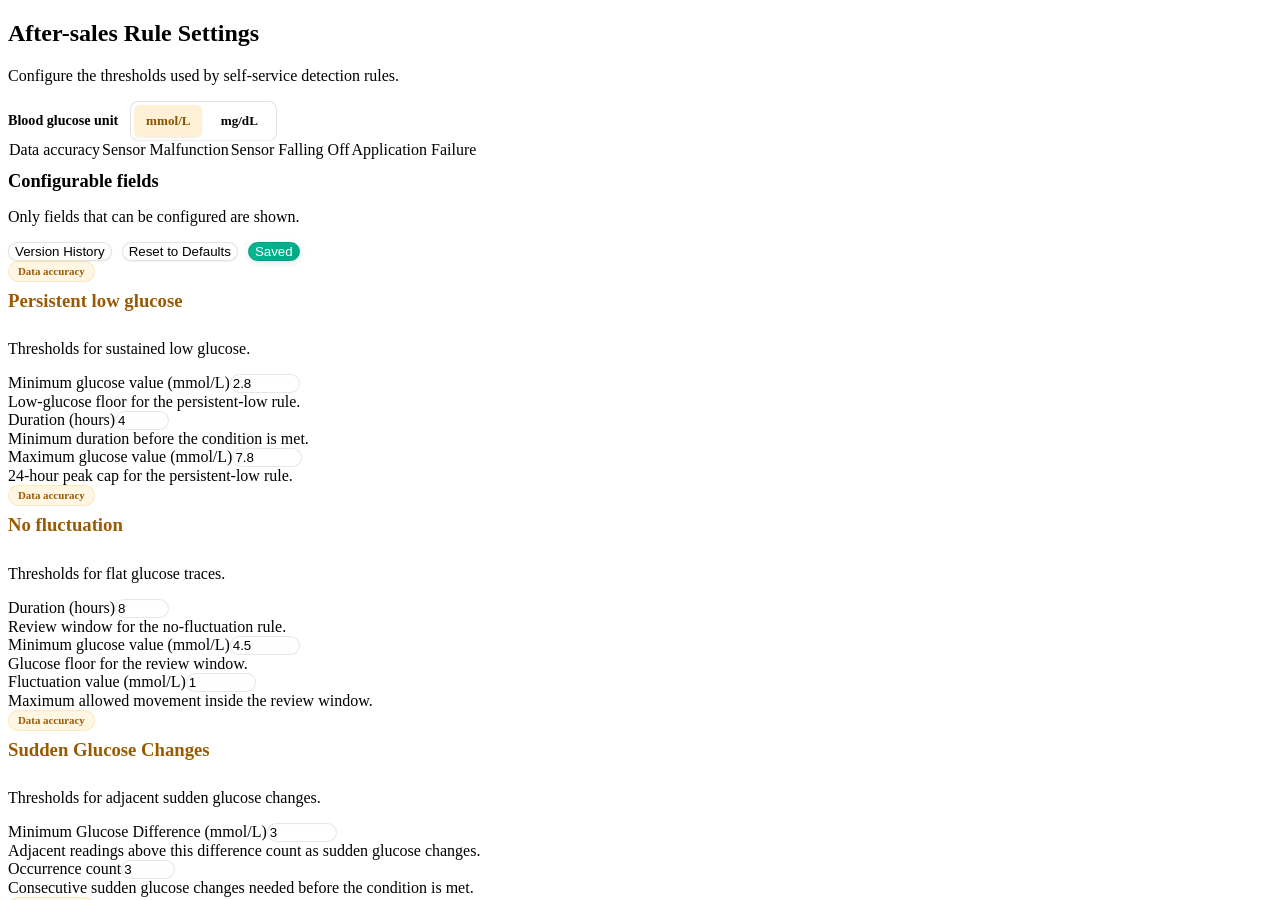
Test: ThresholdsView › shows a success modal after saving valid changes
Replace the text in the number field with id "threshold-lowMinHours" with "5" at [142, 421], box [115, 411, 169, 430]
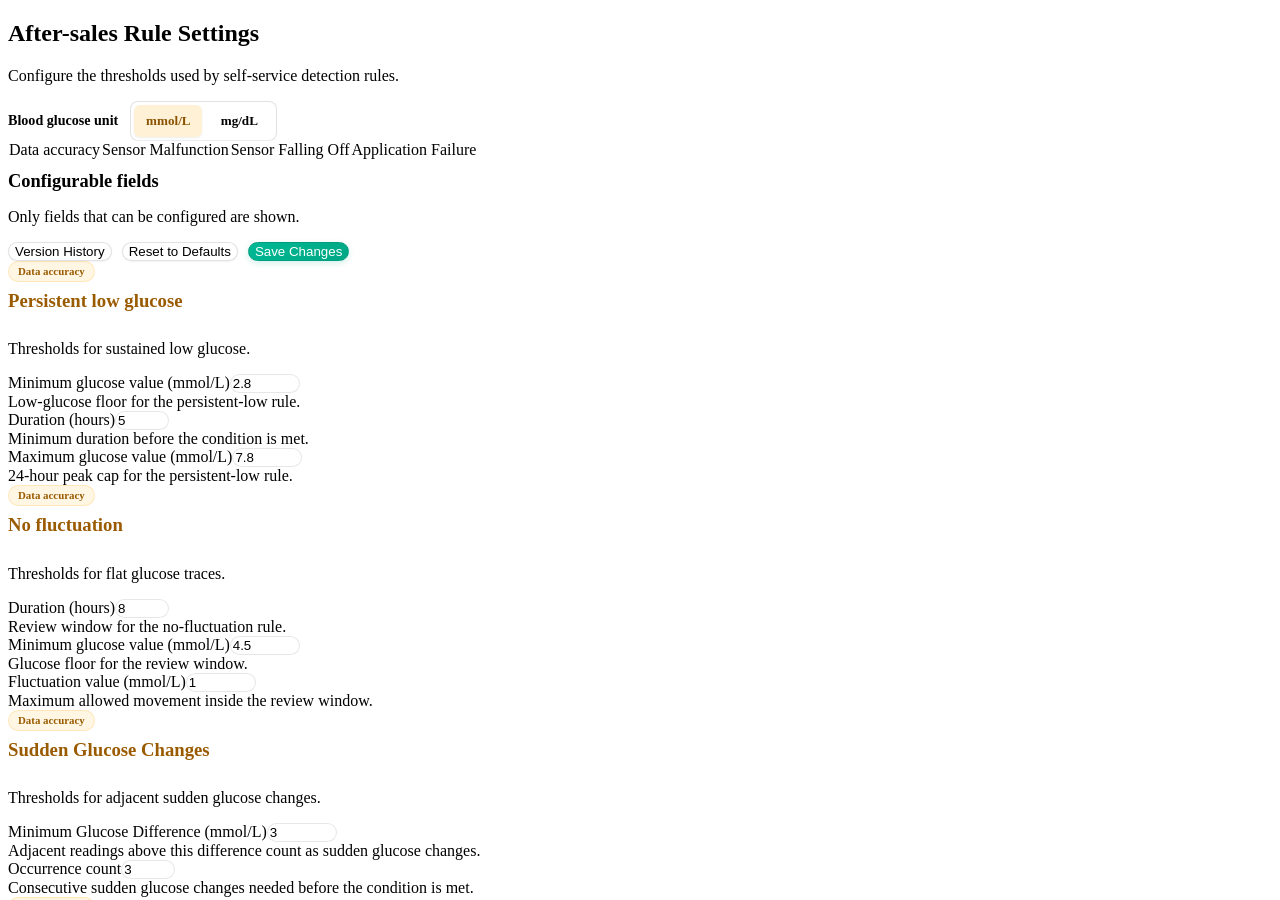
Click the button "Save Changes" at [299, 252], box [248, 242, 349, 261]
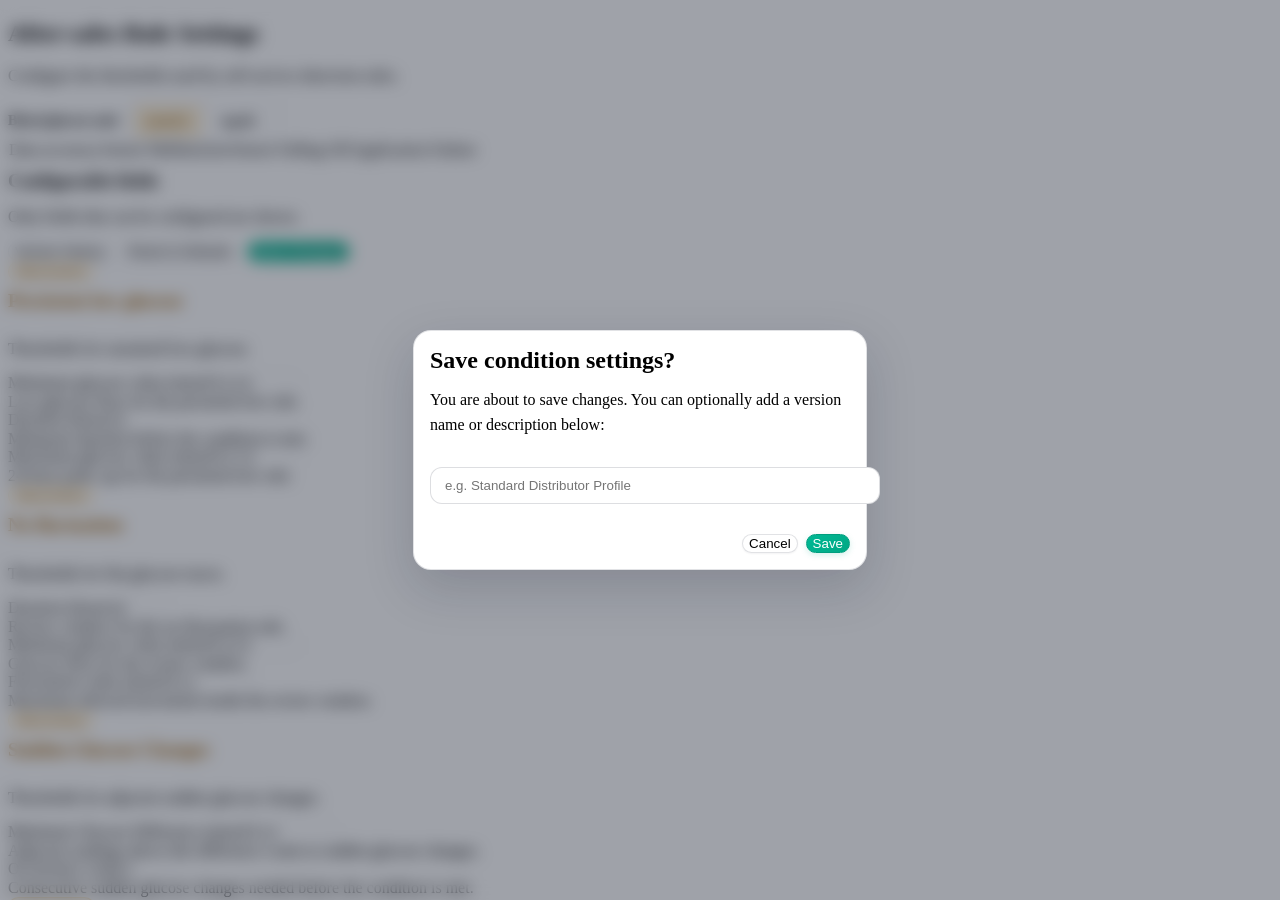
Confirm inside modal
Click the button "Save" at [828, 544], box [806, 534, 850, 553]
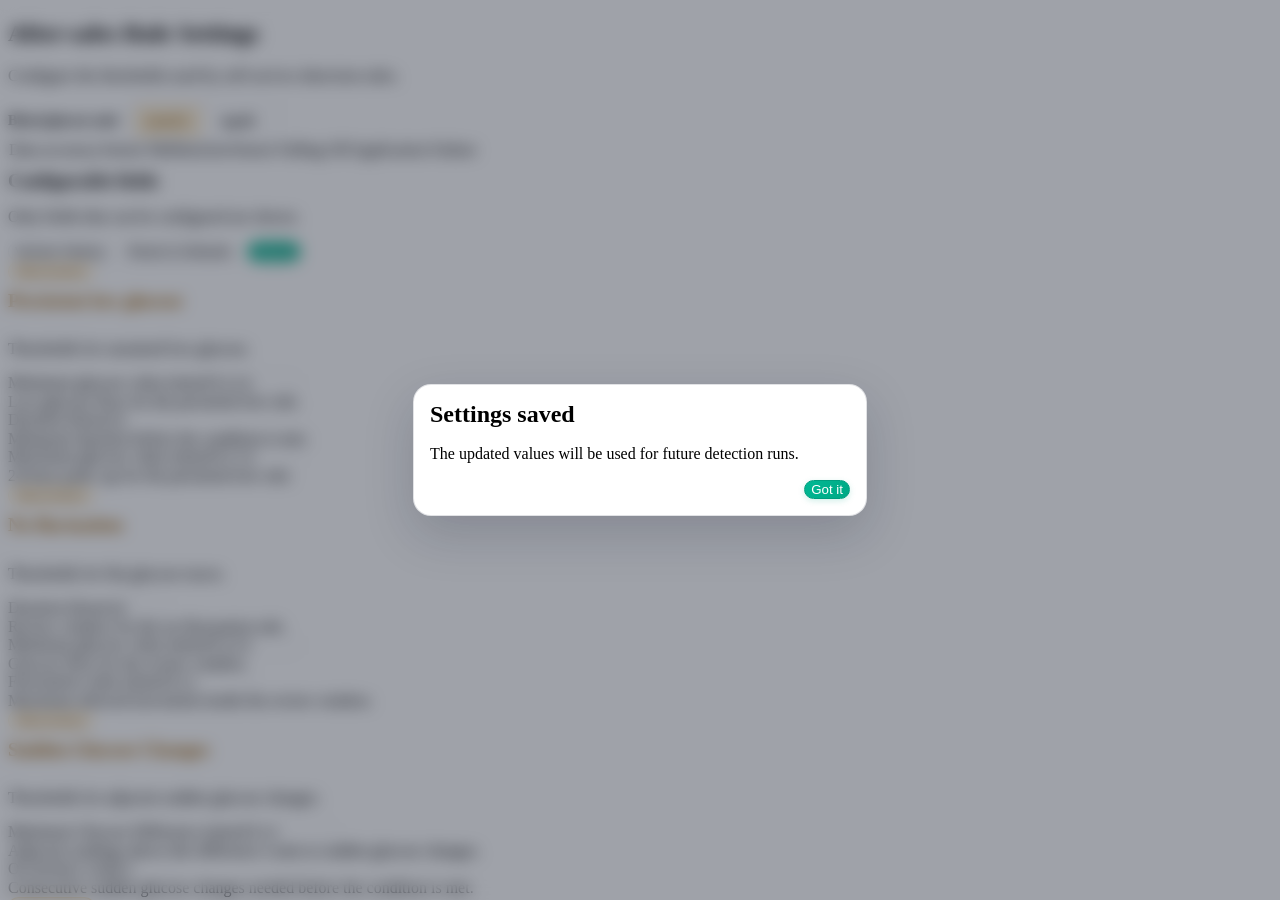
Now the element with class "modal-overlay" is shown
Now the dialog shows "Settings saved", box [430, 401, 575, 427]
